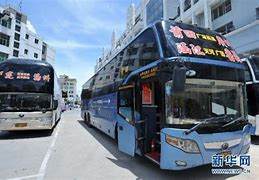bigcar: (75, 18, 251, 170)
